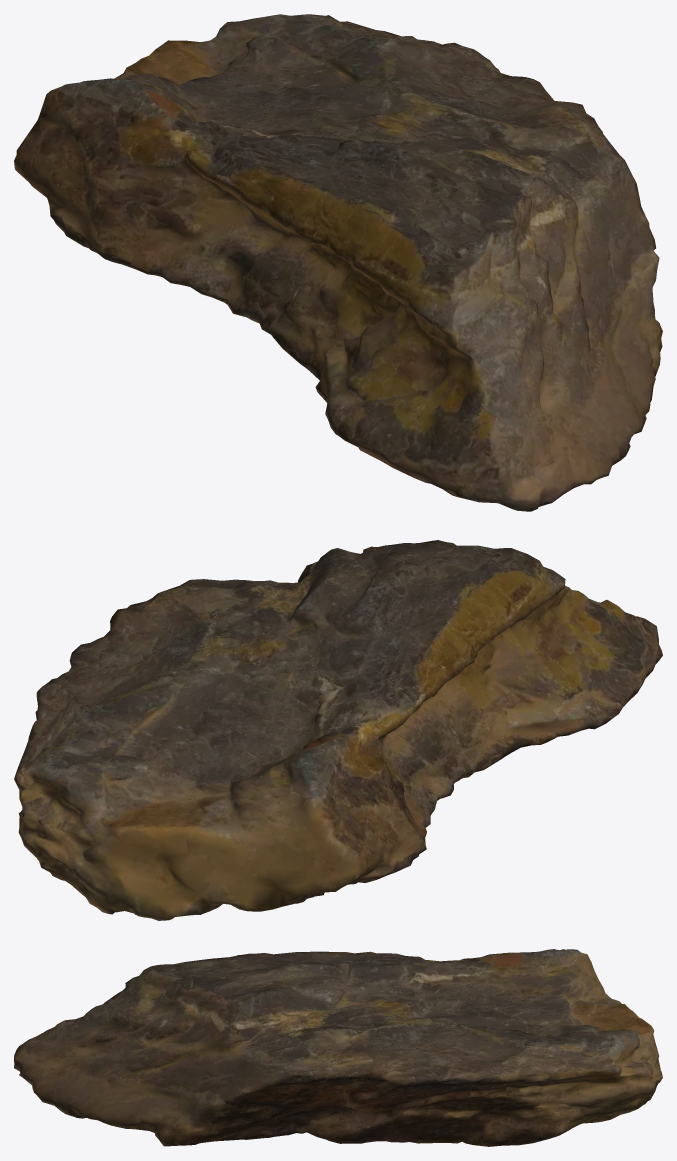
File: rock_09.glb
3 renders of one model, top to bottom at view 1: azimuth 30°, elevation 25°; view 2: azimuth 150°, elevation 25°; view 3: azimuth 270°, elevation 25°, orthographic. The views are drawn at different scales.
Parts seen in each view (by area): view 1: rock_09_LOD0; view 2: rock_09_LOD0; view 3: rock_09_LOD0.
Boxes of the visible parts, x1,y1,x2,y2 form: rock_09_LOD0: [14, 14, 662, 511]; rock_09_LOD0: [14, 540, 662, 920]; rock_09_LOD0: [14, 949, 662, 1146].
Size of the model in its own units: 0.074 by 0.0329 by 0.1446.
Materials: 1 (1 with a texture image).
